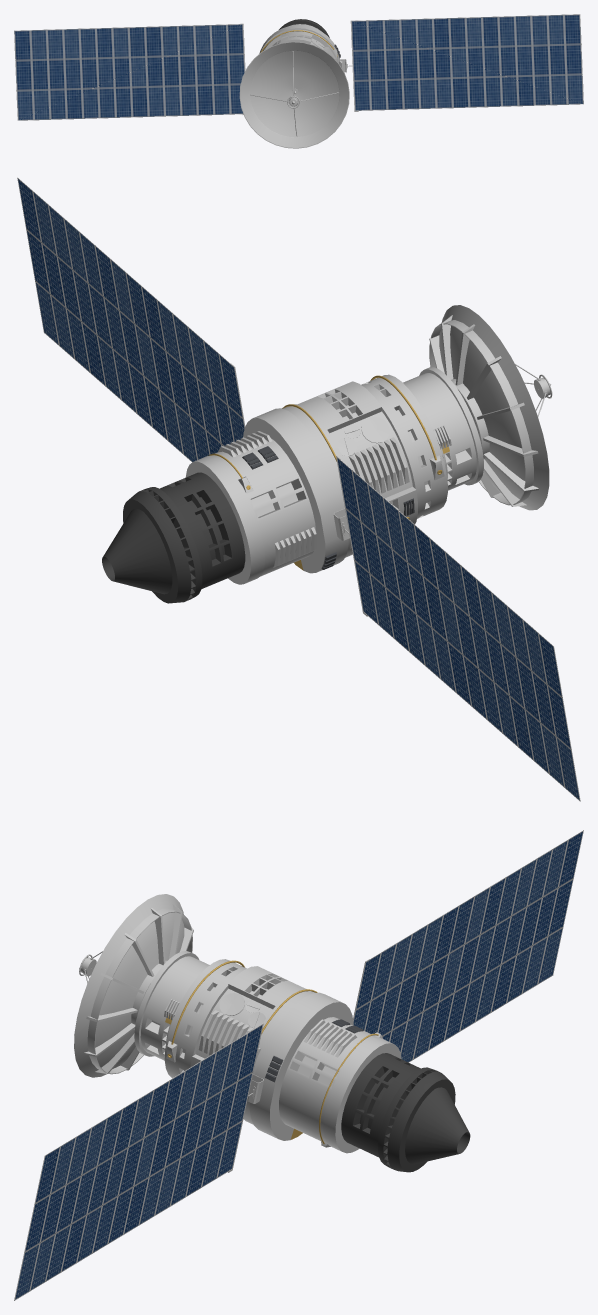
Rendered from sat1.glb.
The picture shows the model from 3 angles, top to bottom: view 1: azimuth 30°, elevation 25°; view 2: azimuth 150°, elevation 25°; view 3: azimuth 270°, elevation 25°; orthographic projection. The views are drawn at different scales.
Parts seen in each view (by area): view 1: Object_56, Object_4, Object_6; view 2: Object_56, Object_4, Object_6, Object_5; view 3: Object_56, Object_4, Object_6, Object_5.
Part boxes in pixels (box(x1,y1,x2,y2)): Object_56: box(14, 14, 583, 120); Object_4: box(239, 20, 358, 148); Object_6: box(279, 19, 329, 37); Object_56: box(17, 177, 580, 801); Object_4: box(185, 305, 552, 616); Object_6: box(102, 472, 245, 603); Object_5: box(208, 375, 449, 570); Object_56: box(14, 830, 583, 1300); Object_4: box(74, 894, 401, 1172); Object_6: box(341, 1053, 470, 1172); Object_5: box(165, 960, 378, 1143).
Size of the model in its own units: 13.08 by 3.6 by 8.46.
Materials: 5 (1 with a texture image).
